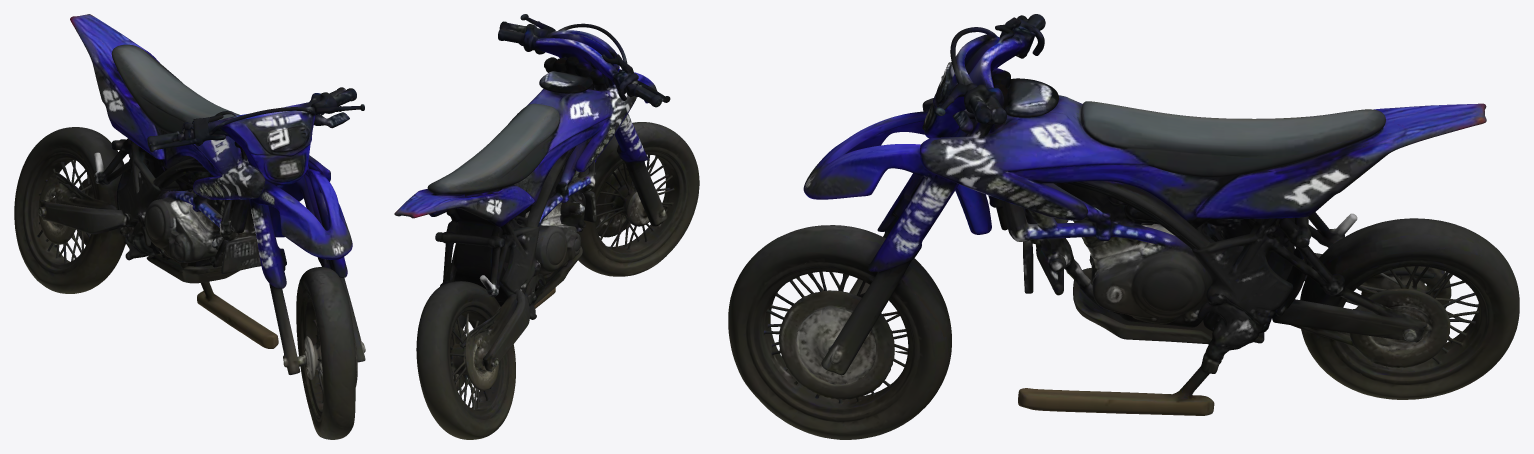
Rendered from moto.glb.
The picture shows the model from 3 angles, left to right: view 1: azimuth 30°, elevation 25°; view 2: azimuth 150°, elevation 25°; view 3: azimuth 270°, elevation 25°; orthographic projection. The views are drawn at different scales.
Parts seen in each view (by area): view 1: Object_01; view 2: Object_01; view 3: Object_01.
Part boxes in pixels (bbox=[...]): Object_01: bbox=[14, 14, 365, 439]; Object_01: bbox=[394, 14, 699, 439]; Object_01: bbox=[728, 14, 1519, 439].
Bounding box in the file's own units: 0.4239 × 0.6191 × 1.13.
Materials: 1 (1 with a texture image).
